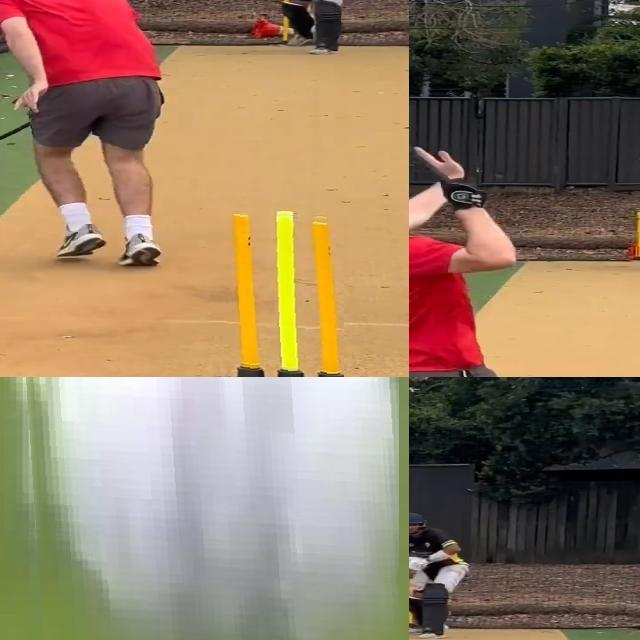Cricket ball: (9, 377, 399, 640)
Stumps: (210, 211, 344, 377), (633, 209, 640, 261)
